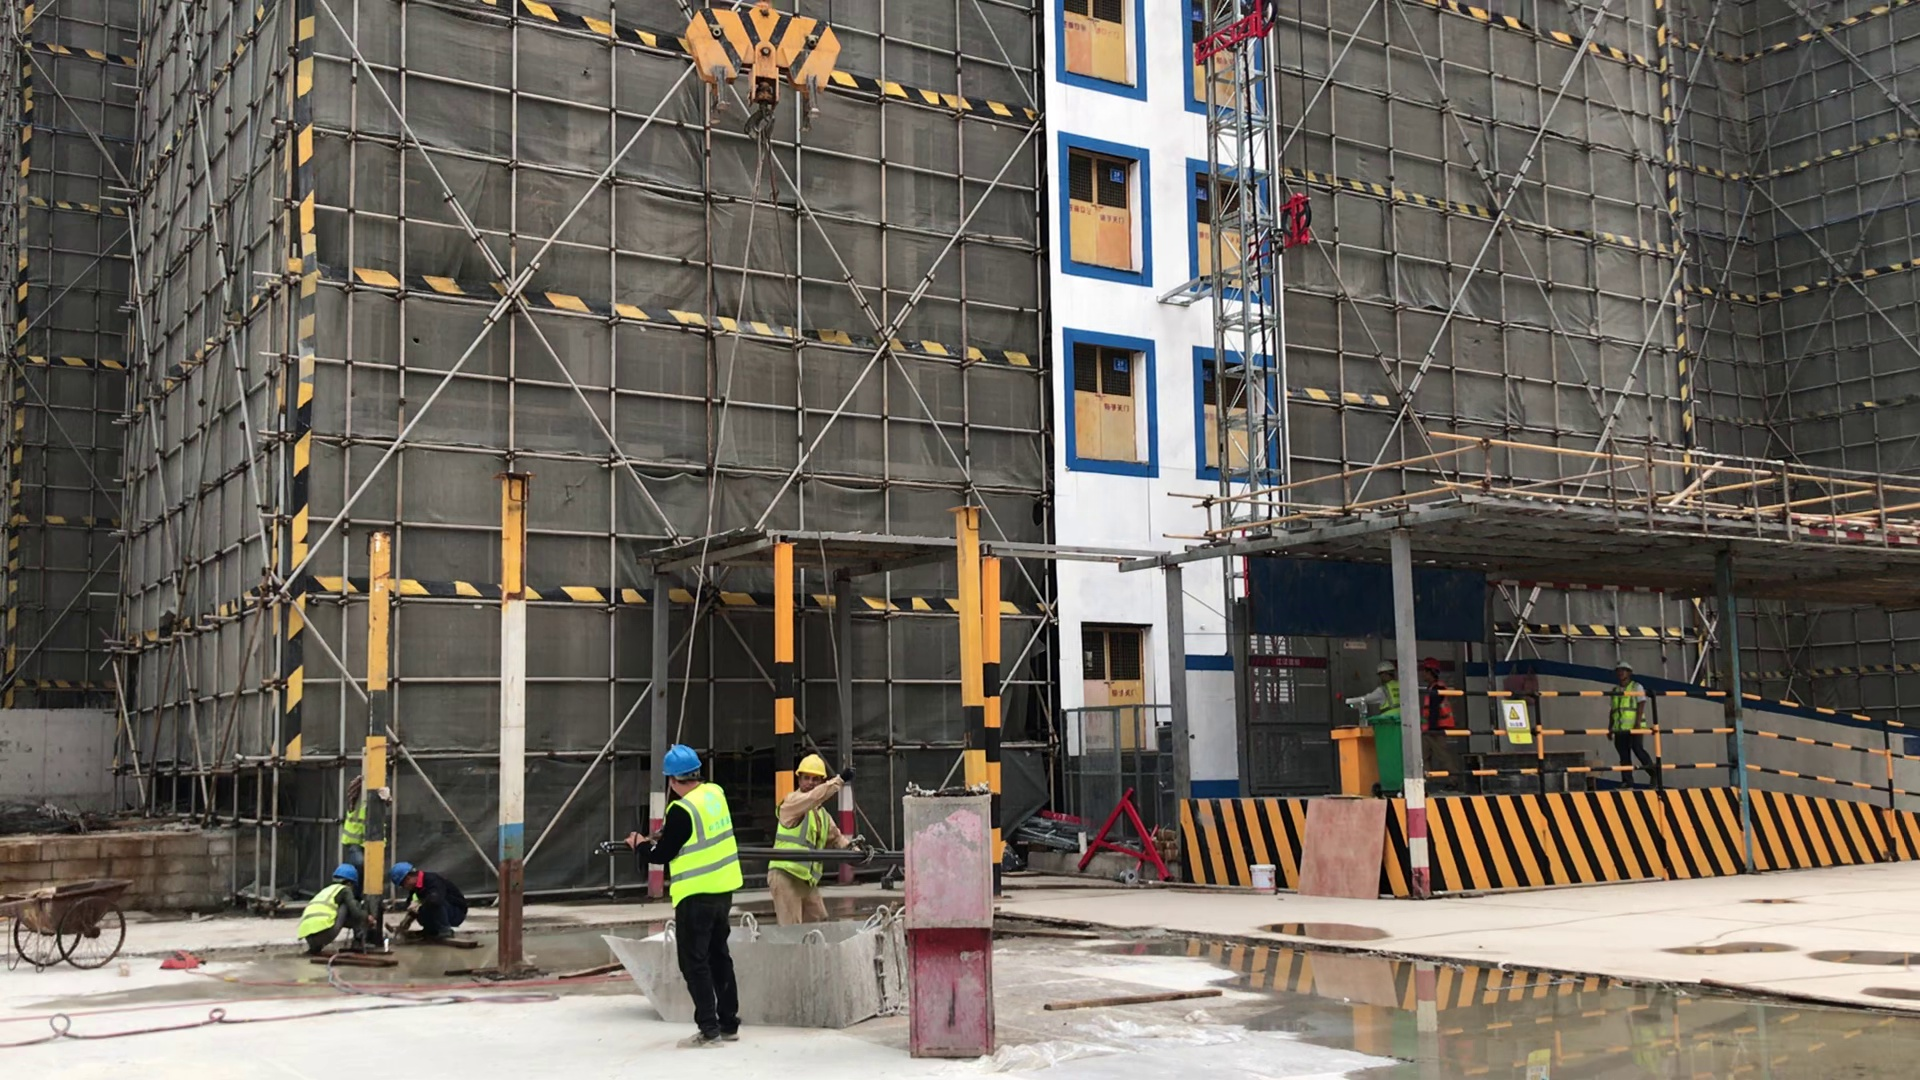helmet: (660, 734, 709, 785), (792, 748, 836, 789), (331, 860, 367, 885), (385, 860, 421, 885), (1365, 651, 1395, 675), (1416, 654, 1448, 676), (1612, 661, 1640, 678)
person: (632, 719, 770, 1058), (767, 723, 871, 933), (381, 831, 483, 973), (290, 847, 401, 970), (1601, 651, 1688, 797), (1336, 643, 1417, 751), (1405, 656, 1477, 758), (336, 756, 385, 885)
vest: (645, 778, 759, 918), (770, 784, 843, 905), (293, 870, 348, 961), (343, 769, 402, 850), (395, 884, 468, 946), (1420, 680, 1461, 732), (1606, 679, 1645, 731), (1371, 679, 1406, 716)
